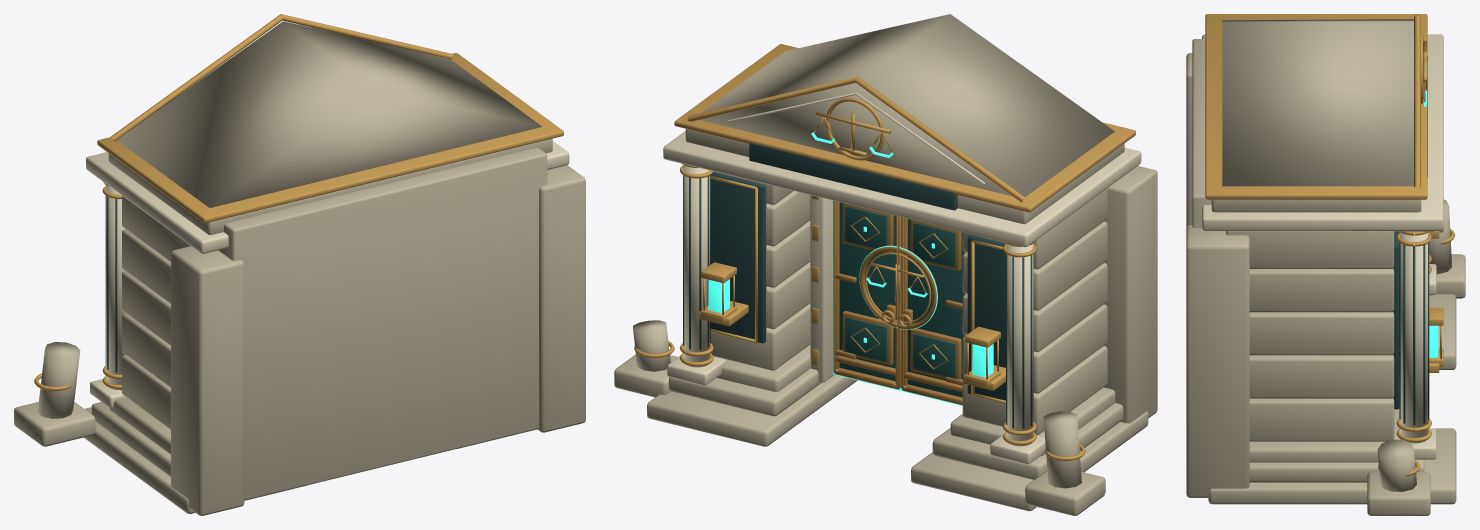
File: weight-exterior.glb
The picture shows the model from 3 angles, left to right: view 1: azimuth 30°, elevation 25°; view 2: azimuth 150°, elevation 25°; view 3: azimuth 270°, elevation 25°; orthographic projection. The views are drawn at different scales.
Parts seen in each view (by area): view 1: Static Sanctuary limestone, Static Sanctuary aged gold, Static Sanctuary cut edges, Static Sanctuary dark inlay; view 2: Static Sanctuary limestone, Static Sanctuary cut edges, Static Sanctuary dark inlay, Static Sanctuary aged gold, Right Door oxidised teal, Left Door oxidised teal, Right Door brushed bronze, Left Door brushed bronze, Static Sanctuary turquoise, Right Sanctuary aged gold, Left Sanctuary aged gold; view 3: Static Sanctuary limestone, Static Sanctuary cut edges, Static Sanctuary aged gold, Static Sanctuary dark inlay, Static Sanctuary turquoise.
Part boxes in pixels (x1,y1,x2,y2): Static Sanctuary limestone: (14,21,585,515); Static Sanctuary aged gold: (34,14,563,390); Static Sanctuary cut edges: (86,141,569,408); Static Sanctuary dark inlay: (105,196,117,372); Static Sanctuary limestone: (614,14,1157,515); Static Sanctuary cut edges: (663,92,1141,464); Static Sanctuary dark inlay: (683,143,1033,428); Static Sanctuary aged gold: (634,44,1135,460); Right Door oxidised teal: (839,202,895,381); Left Door oxidised teal: (908,219,963,397); Right Door brushed bronze: (833,200,901,389); Left Door brushed bronze: (898,217,964,404); Static Sanctuary turquoise: (708,132,993,405); Right Sanctuary aged gold: (834,201,897,386); Left Sanctuary aged gold: (898,217,965,402); Static Sanctuary limestone: (1186,19,1465,515); Static Sanctuary cut edges: (1202,34,1443,459); Static Sanctuary aged gold: (1205,14,1455,476); Static Sanctuary dark inlay: (1393,56,1429,425); Static Sanctuary turquoise: (1424,61,1438,357).
Bounding box in the file's own units: 9.1 × 6.8 × 4.4.
